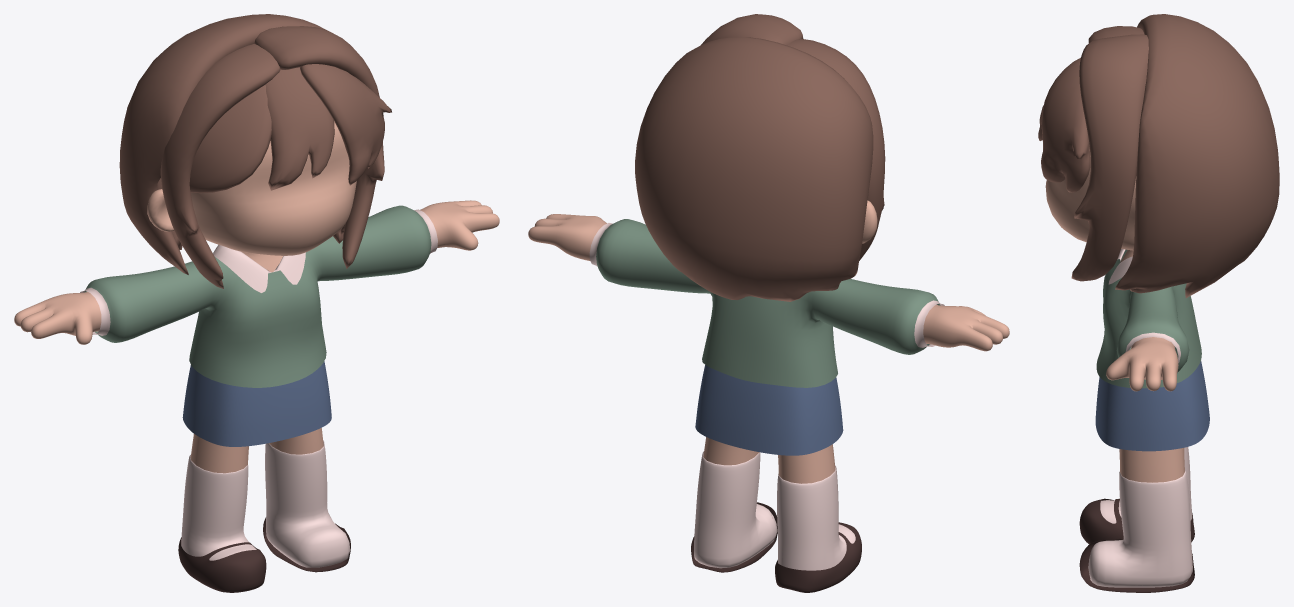
The model's file is Personaje.fbx.
The picture shows the model from 3 angles, left to right: view 1: azimuth 30°, elevation 25°; view 2: azimuth 150°, elevation 25°; view 3: azimuth 270°, elevation 25°; orthographic projection.
Visible parts, largest first — view 1: Blusa, Chibi, Medias, 6, 4, Falda, 1, 5, 3, 2, Zapatos; view 2: 6, Blusa, Medias, Falda, Chibi, 4, Zapatos, 5; view 3: 6, 5, Medias, Falda, Chibi, Blusa, 2, Zapatos, 4.
Part boxes in pixels (left/top/right/bottom): Blusa: left=80, top=205, right=437, bottom=387; Chibi: left=14, top=121, right=499, bottom=473; Medias: left=181, top=440, right=350, bottom=567; 6: left=119, top=14, right=344, bottom=274; 4: left=160, top=44, right=280, bottom=288; Falda: left=182, top=361, right=331, bottom=446; 1: left=265, top=67, right=334, bottom=190; 5: left=254, top=26, right=384, bottom=268; 3: left=189, top=84, right=271, bottom=193; 2: left=300, top=64, right=391, bottom=185; Zapatos: left=178, top=517, right=350, bottom=592; 6: left=635, top=37, right=873, bottom=301; Blusa: left=589, top=219, right=944, bottom=387; Medias: left=694, top=451, right=855, bottom=570; Falda: left=695, top=365, right=843, bottom=455; Chibi: left=528, top=200, right=1009, bottom=483; 4: left=787, top=39, right=885, bottom=260; Zapatos: left=691, top=502, right=861, bottom=592; 5: left=701, top=14, right=803, bottom=45; 6: left=1115, top=14, right=1279, bottom=297; 5: left=1071, top=34, right=1148, bottom=281; Medias: left=1088, top=447, right=1192, bottom=587; Falda: left=1095, top=361, right=1209, bottom=451; Chibi: left=1045, top=149, right=1184, bottom=482; Blusa: left=1096, top=249, right=1201, bottom=388; 2: left=1041, top=57, right=1090, bottom=192; Zapatos: left=1079, top=498, right=1194, bottom=592; 4: left=1088, top=26, right=1143, bottom=43.
Bounding box in the file's own units: 128 × 138 × 57.01.
